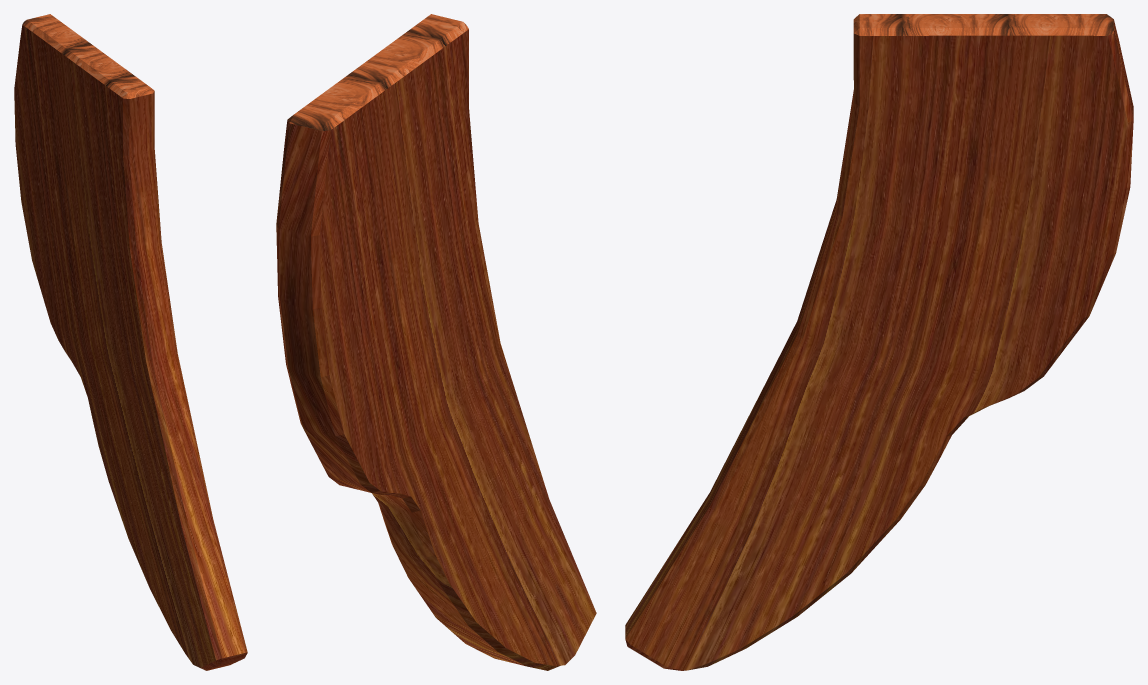
Rendered from GMY_J_zhuangshi_01.FBX.
3 views of the same model, side by side, from view 1: azimuth 30°, elevation 25°; view 2: azimuth 150°, elevation 25°; view 3: azimuth 270°, elevation 25° (orthographic). The views are drawn at different scales.
Visible parts, largest first — view 1: GMY_J_zhuangshi_01; view 2: GMY_J_zhuangshi_01; view 3: GMY_J_zhuangshi_01.
Part boxes in pixels (left/top/right/bottom): GMY_J_zhuangshi_01: left=14, top=14, right=247, bottom=670; GMY_J_zhuangshi_01: left=276, top=14, right=596, bottom=670; GMY_J_zhuangshi_01: left=625, top=14, right=1133, bottom=670.
Size of the model in its own units: 0.54 by 8.5 by 6.09.
